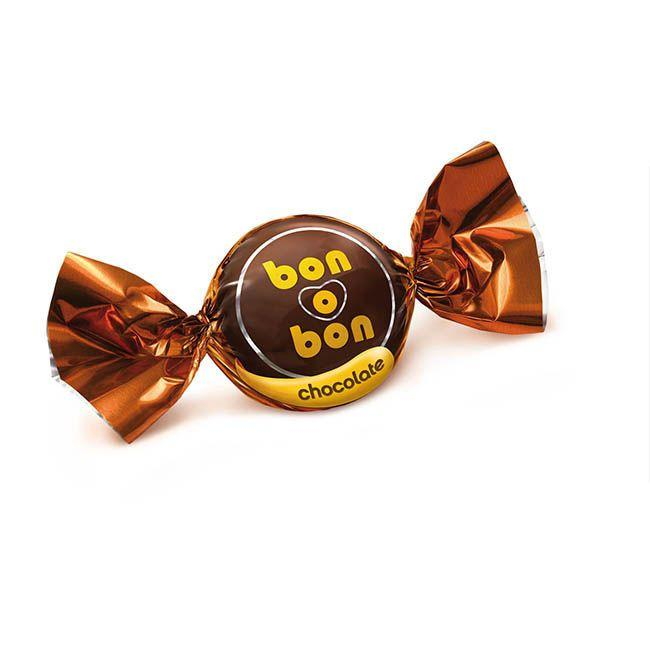plastic: (20, 133, 589, 455)
